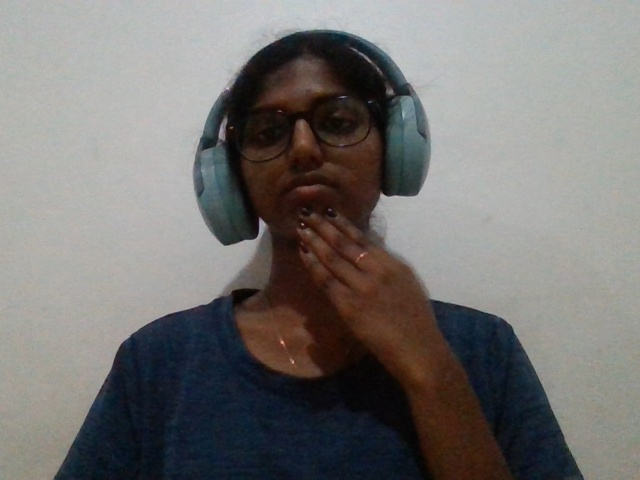Thanks: (259, 180, 503, 407)
